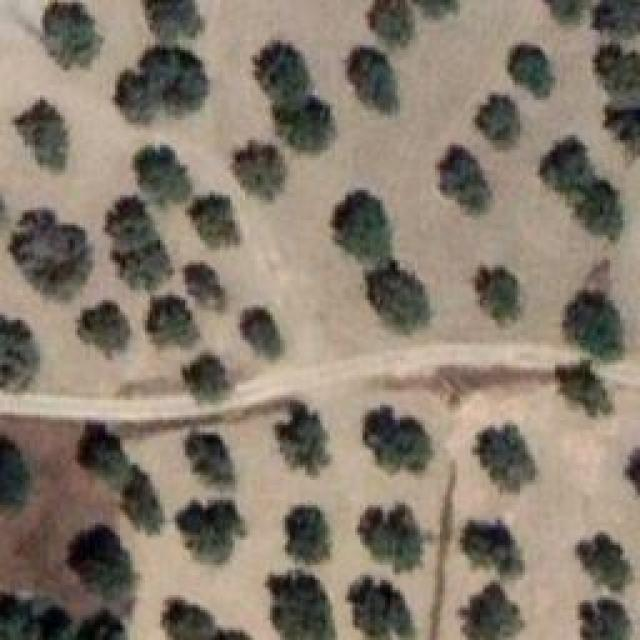Tree: (113, 45, 213, 126), (548, 148, 628, 242), (0, 215, 85, 298), (105, 195, 175, 287), (367, 255, 435, 336), (360, 398, 430, 476), (560, 288, 631, 361), (355, 507, 430, 572), (67, 523, 136, 593), (263, 573, 333, 640), (555, 362, 624, 428), (172, 495, 241, 561), (270, 88, 334, 159), (470, 425, 539, 488), (347, 575, 413, 639), (250, 38, 308, 110), (44, 2, 104, 69), (330, 190, 392, 254), (233, 142, 292, 208), (438, 148, 494, 217), (457, 513, 525, 569), (468, 265, 530, 326), (13, 100, 69, 167), (340, 43, 391, 115), (83, 418, 133, 490), (270, 408, 328, 470), (145, 297, 201, 361), (0, 310, 41, 397), (463, 582, 525, 639), (75, 294, 132, 354), (135, 145, 192, 204), (0, 425, 32, 521), (235, 305, 286, 365), (578, 533, 631, 590), (600, 110, 639, 186), (180, 350, 233, 405), (283, 500, 334, 557), (597, 45, 640, 110), (508, 45, 556, 103), (473, 95, 523, 150), (188, 193, 238, 247), (117, 470, 158, 532), (183, 258, 230, 312), (188, 430, 235, 484), (158, 595, 213, 640), (358, 0, 410, 44), (580, 595, 630, 640), (145, 0, 201, 39), (0, 585, 37, 640), (595, 0, 640, 35), (408, 0, 470, 25), (80, 605, 124, 639), (40, 600, 70, 640), (540, 0, 586, 26), (620, 451, 640, 494)
